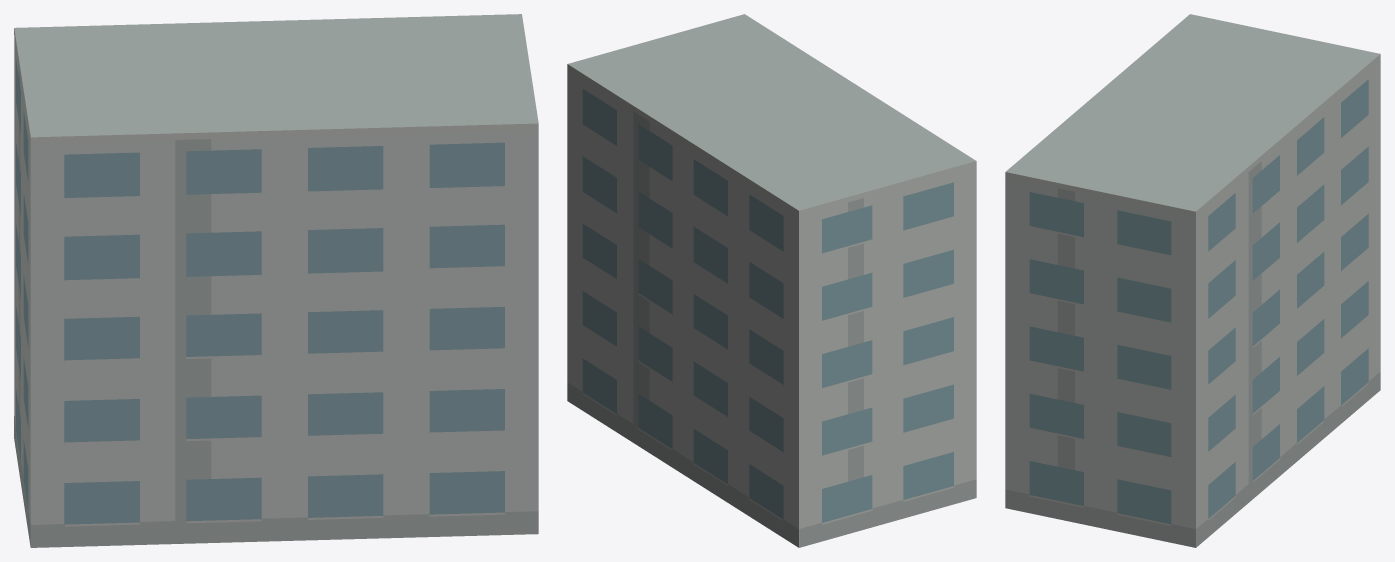
The model's file is residential-68960b64-134b-42c0-8c9c-87151e0516ac.glb.
3 views of the same model, side by side, from view 1: azimuth 30°, elevation 25°; view 2: azimuth 150°, elevation 25°; view 3: azimuth 270°, elevation 25° (orthographic). The views are drawn at different scales.
Parts seen in each view (by area): view 1: residential-68960b64-134b-42c0-8c9c-87151e0516ac.tmp; view 2: residential-68960b64-134b-42c0-8c9c-87151e0516ac.tmp; view 3: residential-68960b64-134b-42c0-8c9c-87151e0516ac.tmp.
Boxes of the visible parts, x1=… form: residential-68960b64-134b-42c0-8c9c-87151e0516ac.tmp: x1=14, y1=14, x2=538, y2=547; residential-68960b64-134b-42c0-8c9c-87151e0516ac.tmp: x1=567, y1=14, x2=976, y2=547; residential-68960b64-134b-42c0-8c9c-87151e0516ac.tmp: x1=1005, y1=14, x2=1380, y2=547.
Size of the model in its own units: 18.92 by 15 by 15.18.
